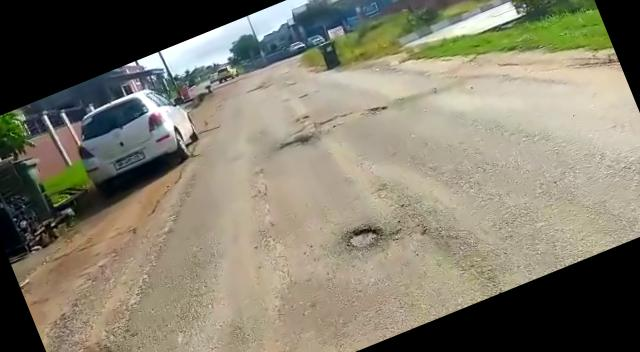pothole: (314, 96, 390, 138), (343, 219, 389, 257), (275, 132, 314, 156)
